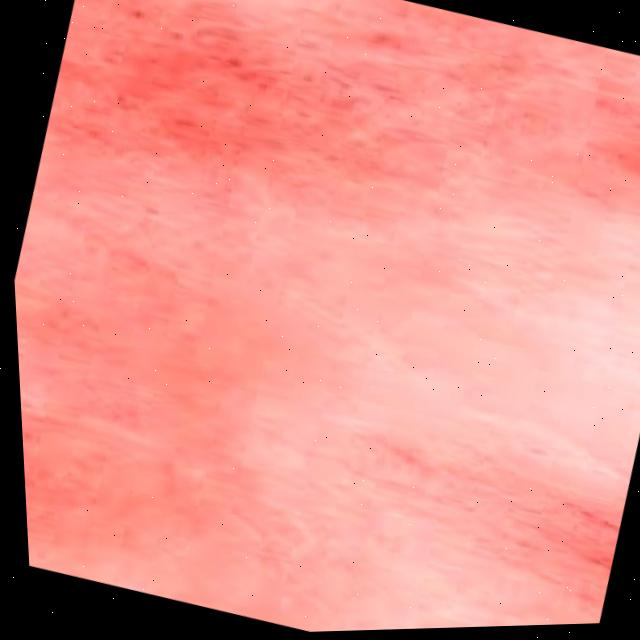Rosacea: (72, 0, 477, 255)
